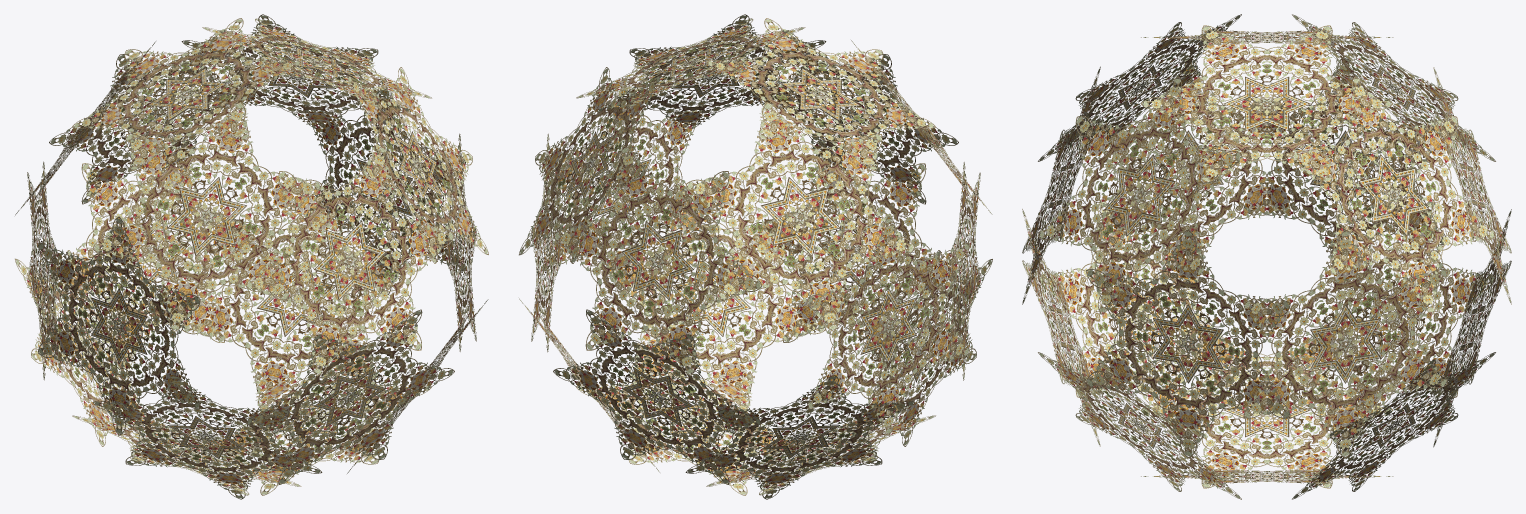
The model's file is IcositruncatedDodecadodecahedron9.gltf.
3 views of the same model, side by side, from view 1: azimuth 30°, elevation 25°; view 2: azimuth 150°, elevation 25°; view 3: azimuth 270°, elevation 25° (orthographic). The views are drawn at different scales.
Parts seen in each view (by area): view 1: IcositruncatedDodecadodecahedron; view 2: IcositruncatedDodecadodecahedron; view 3: IcositruncatedDodecadodecahedron.
Boxes of the visible parts, left/top/right/bottom form: IcositruncatedDodecadodecahedron: left=15, top=14, right=488, bottom=499; IcositruncatedDodecadodecahedron: left=519, top=14, right=992, bottom=499; IcositruncatedDodecadodecahedron: left=1022, top=14, right=1511, bottom=499.
Bounding box in the file's own units: 3.85 × 3.85 × 3.85.
Materials: 1 (1 with a texture image).
